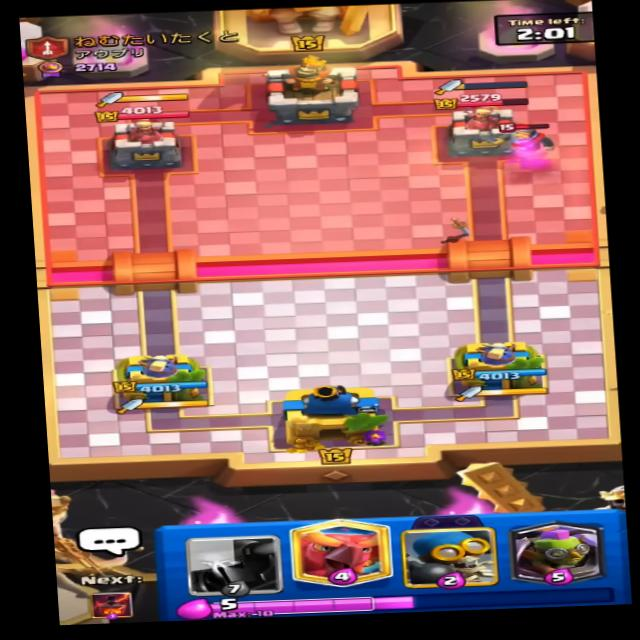knight: (492, 111, 567, 155)
